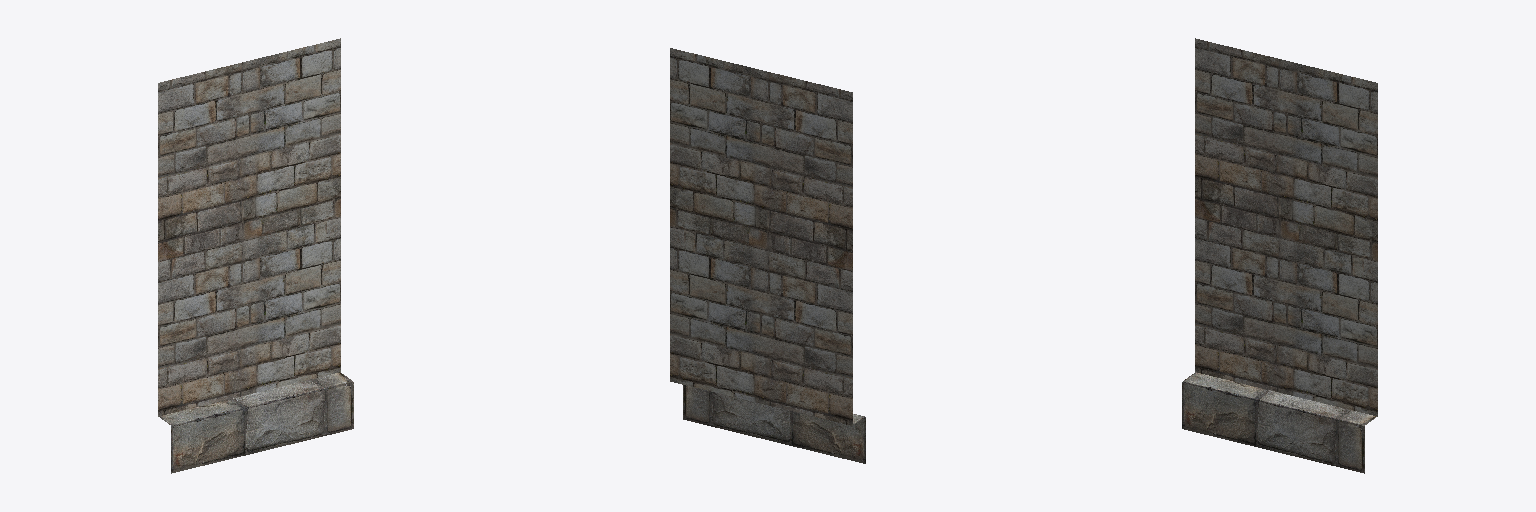
The picture shows the model from 3 angles: view 1: azimuth 30°, elevation 25°; view 2: azimuth 150°, elevation 25°; view 3: azimuth 330°, elevation 25°; orthographic projection.
Bounding box in the file's own units: 100 × 200 × 12.29.
2 materials, 2 textured.